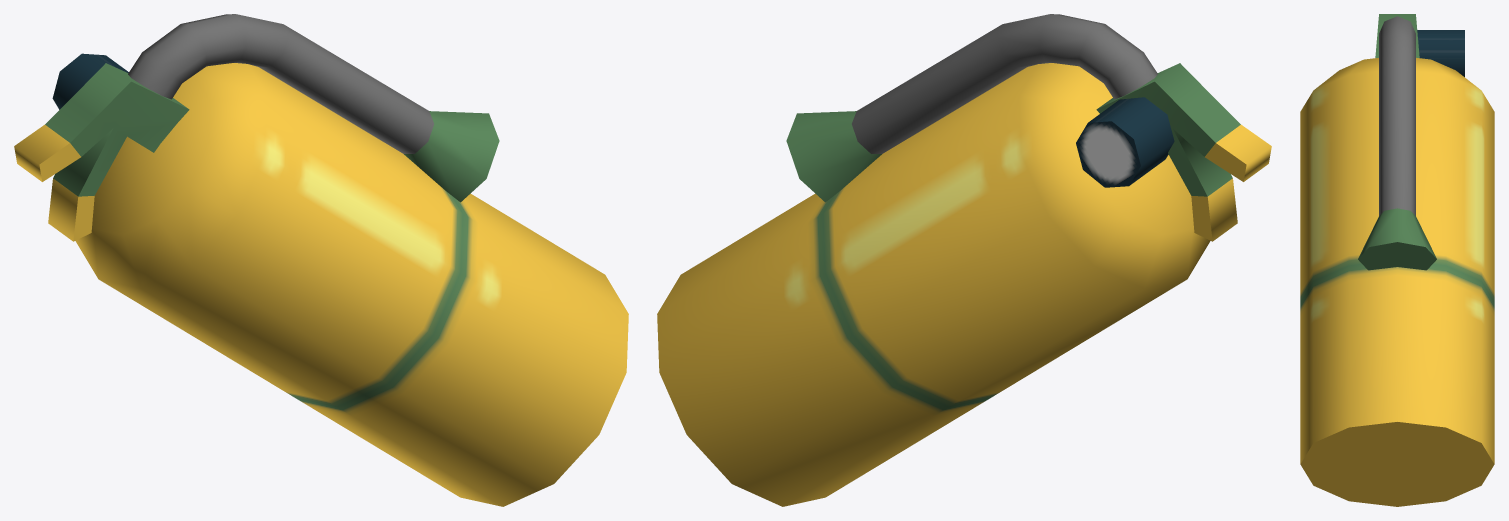
The model's file is back_acc_14.FBX.
3 views of the same model, side by side, from view 1: azimuth 30°, elevation 25°; view 2: azimuth 150°, elevation 25°; view 3: azimuth 270°, elevation 25° (orthographic). The views are drawn at different scales.
Visible parts, largest first — view 1: back_acc_14; view 2: back_acc_14; view 3: back_acc_14.
Boxes of the visible parts, x1,y1,x2,y2 form: back_acc_14: (14,14,628,506); back_acc_14: (657,14,1271,506); back_acc_14: (1300,14,1494,506).
Bounding box in the file's own units: 19.53 × 17.4 × 7.78.
